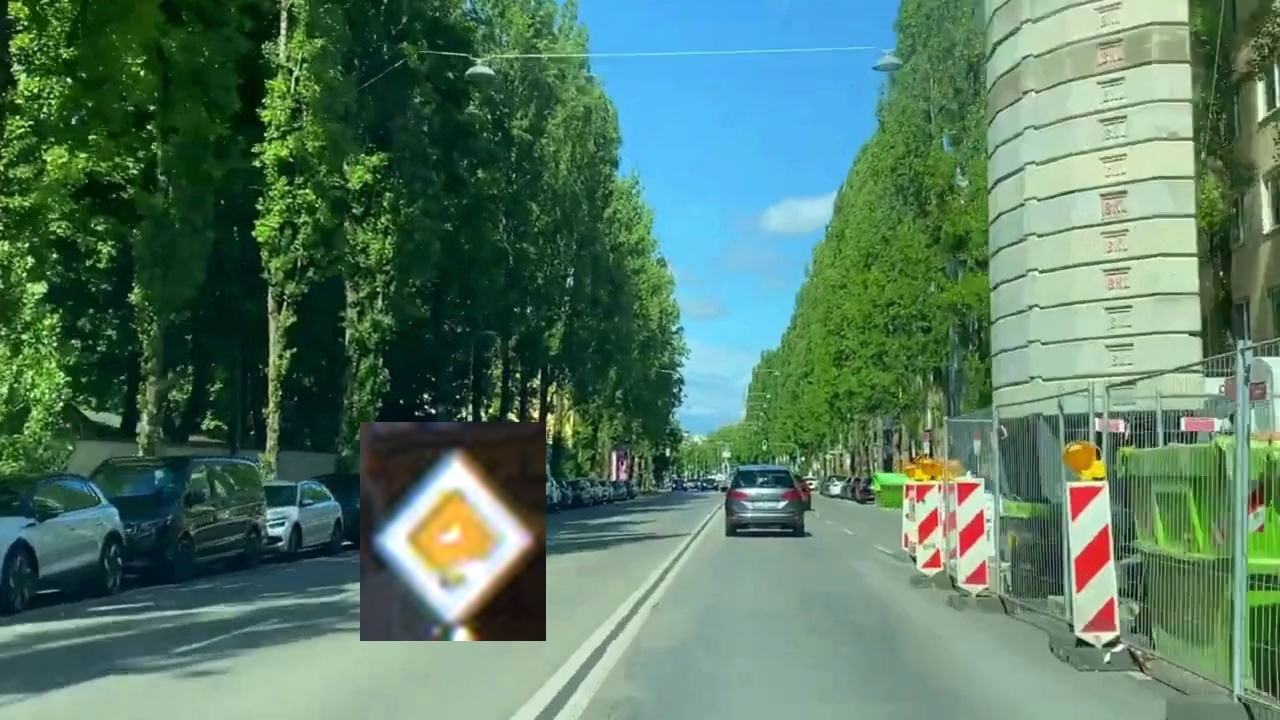Priority road: (360, 422, 546, 641)
